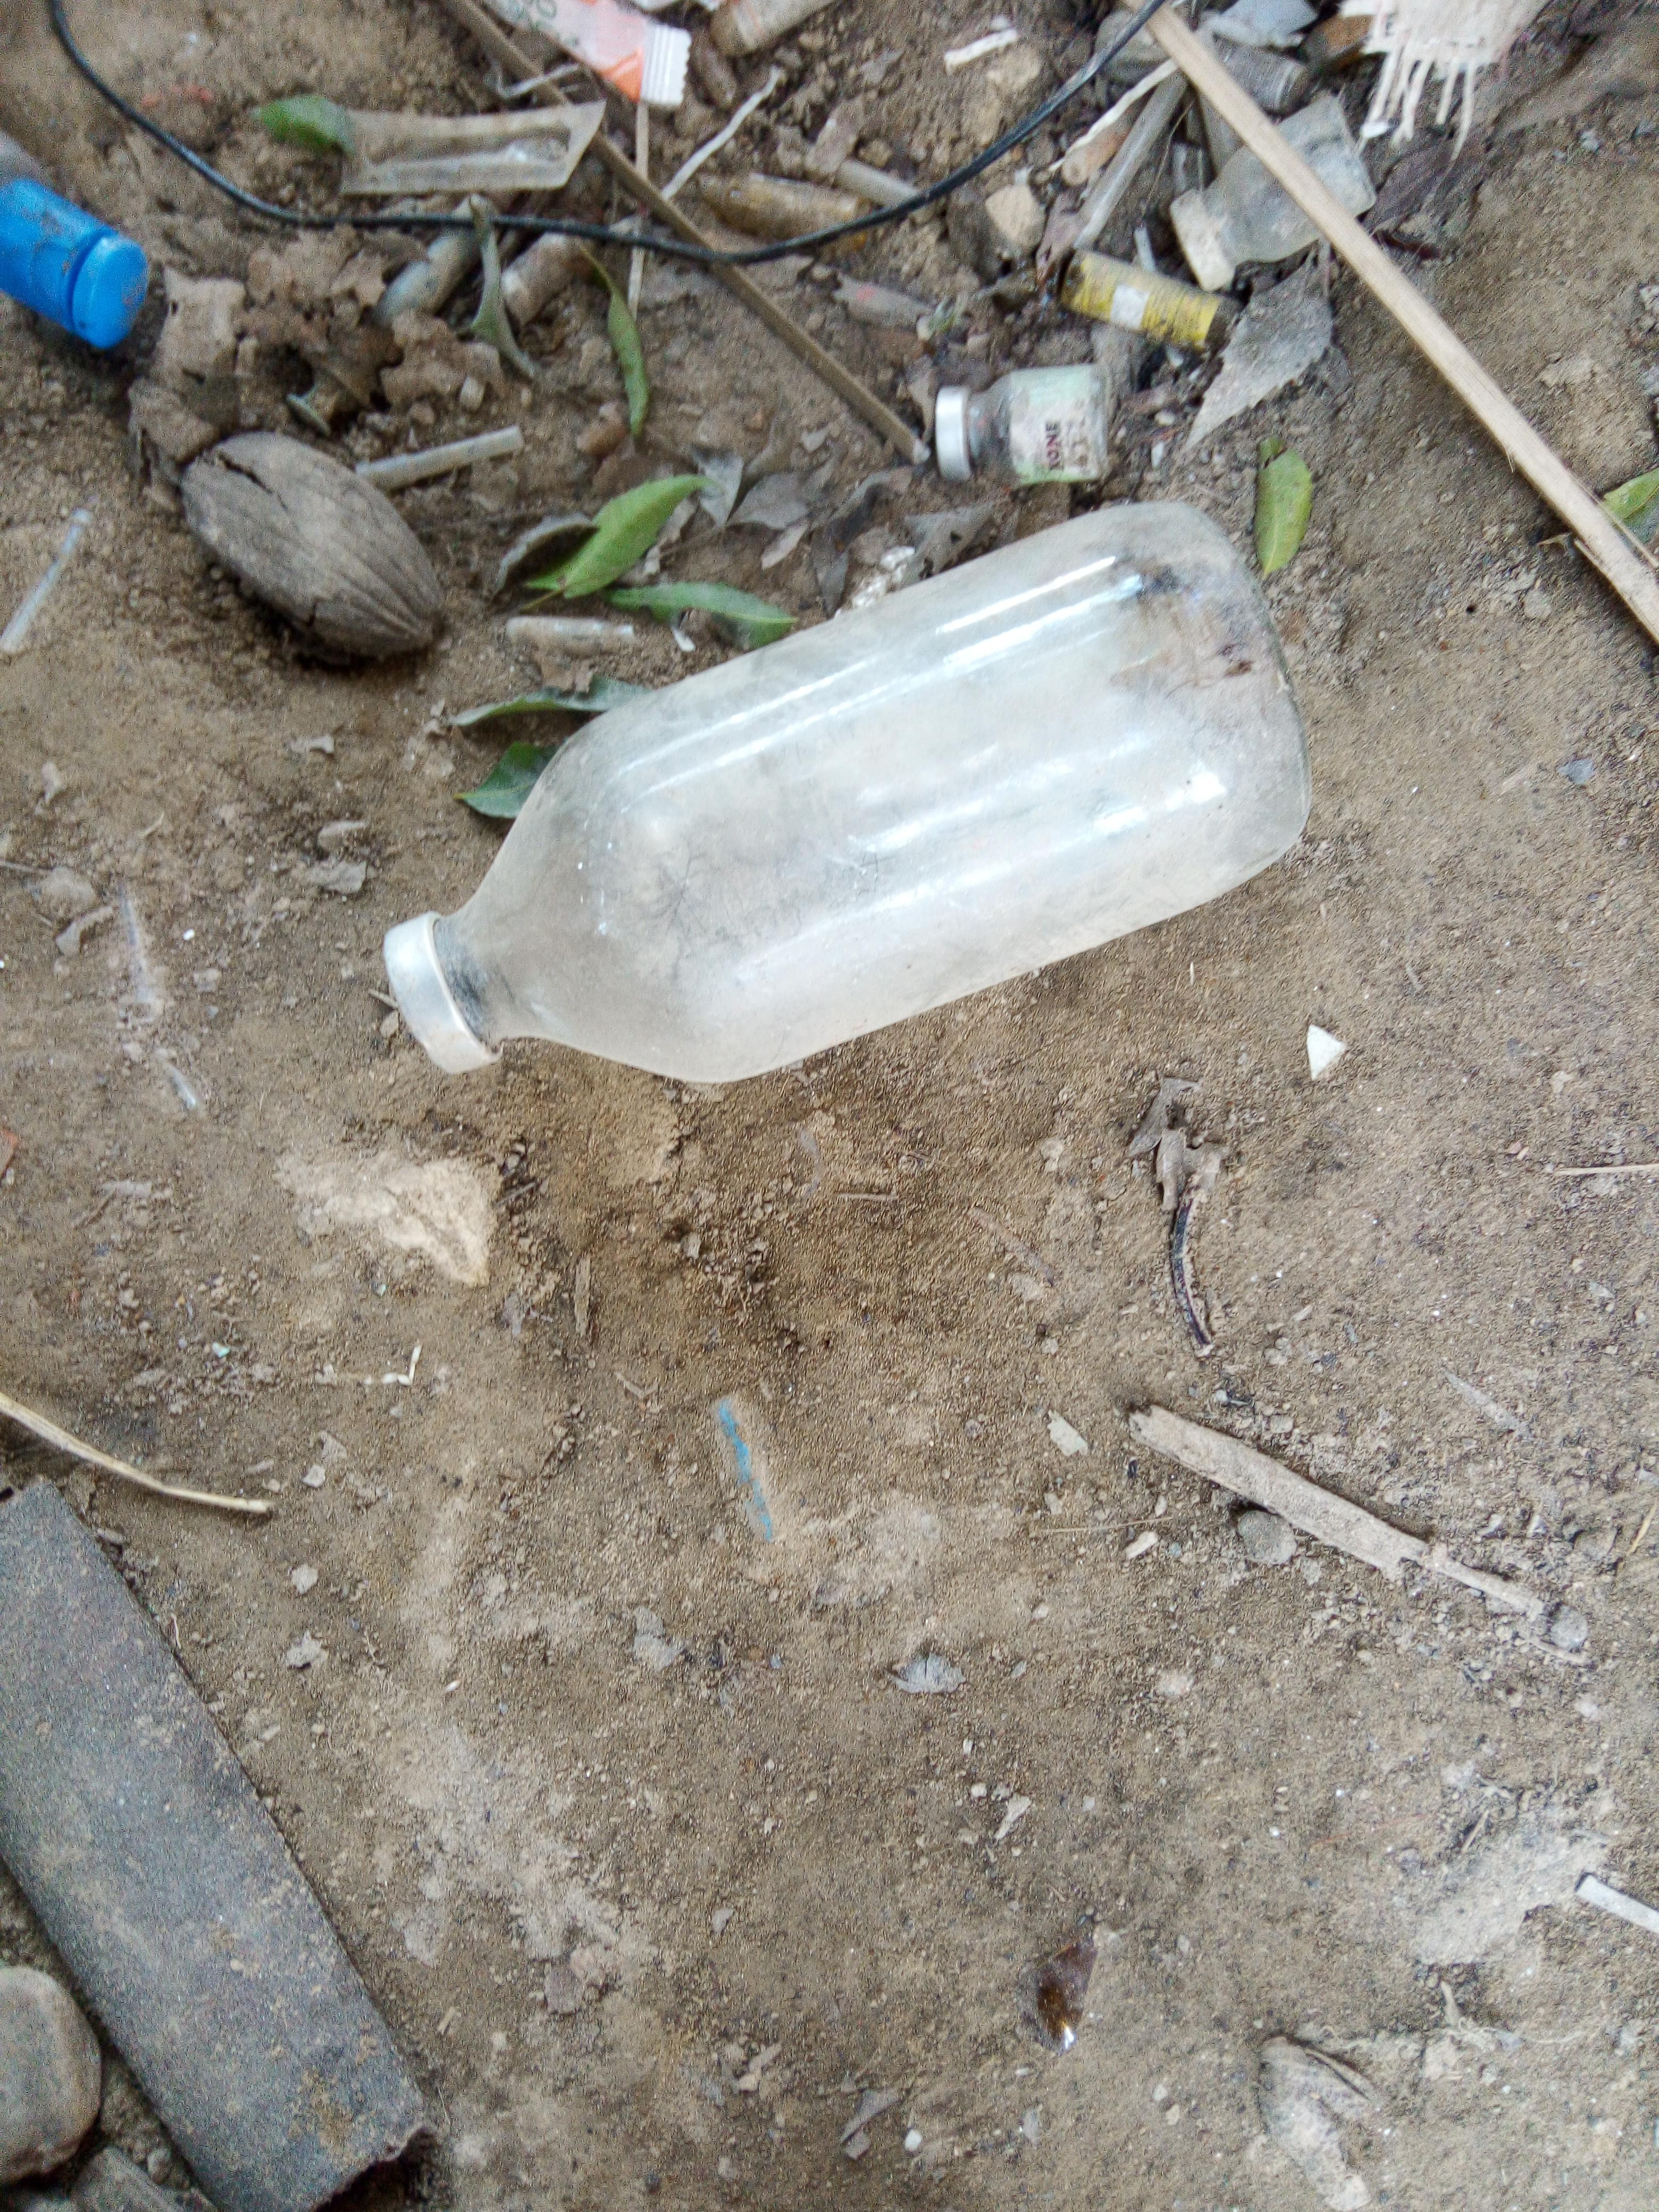organic: (5, 0, 1659, 1094)
